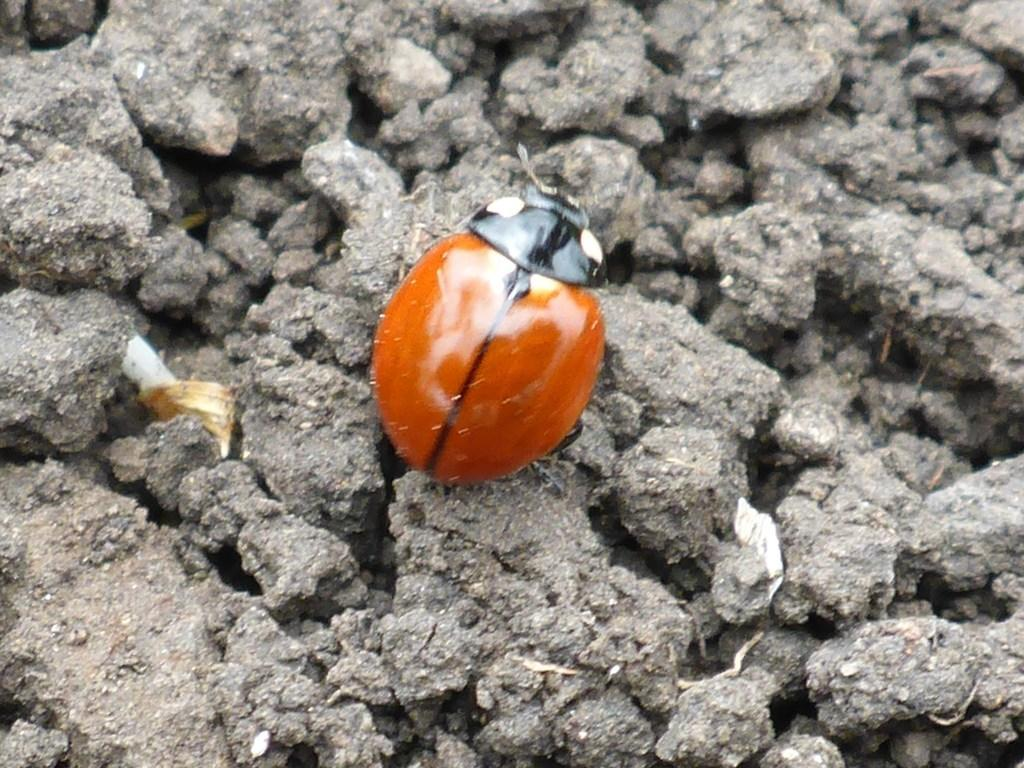ladybug: (367, 177, 615, 491)
